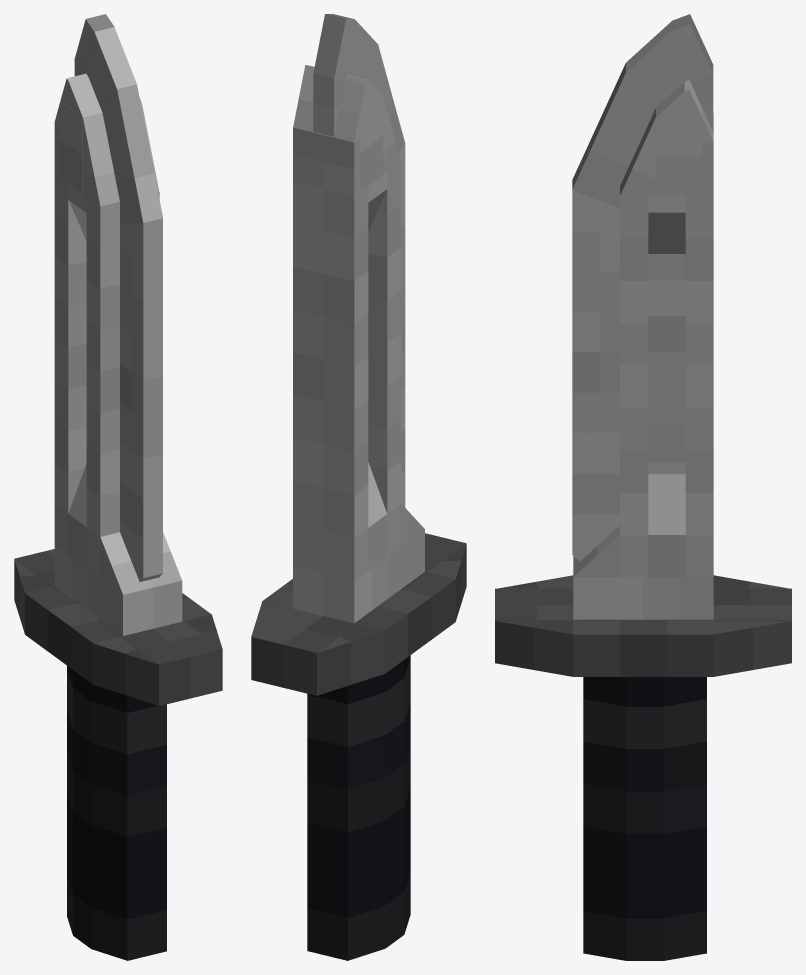
File: knife.gltf
3 renders of one model, left to right at view 1: azimuth 30°, elevation 25°; view 2: azimuth 150°, elevation 25°; view 3: azimuth 270°, elevation 25°, orthographic. The views are drawn at different scales.
Visible parts, largest first — view 1: cube (×22); view 2: cube (×24); view 3: cube (×25).
Boxes of the visible parts, box(x1,y1,x2,y2) form: cube (×22): box(14, 14, 222, 960); cube (×24): box(251, 14, 466, 960); cube (×25): box(495, 14, 791, 960).
Size of the model in its own units: 0.0938 by 0.6819 by 0.1983.
3 materials, 3 textured.
